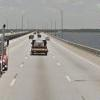Car: (27, 29, 54, 58)
